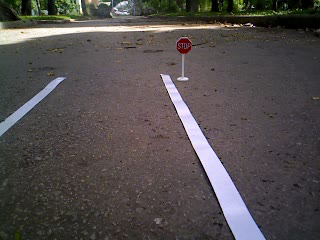Stop: (173, 34, 195, 57)
